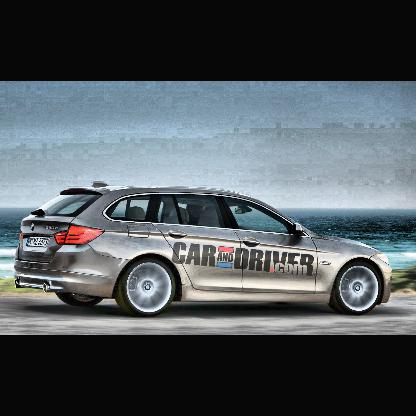BMW 3 Series Wagon 2012: (16, 182, 393, 319)
